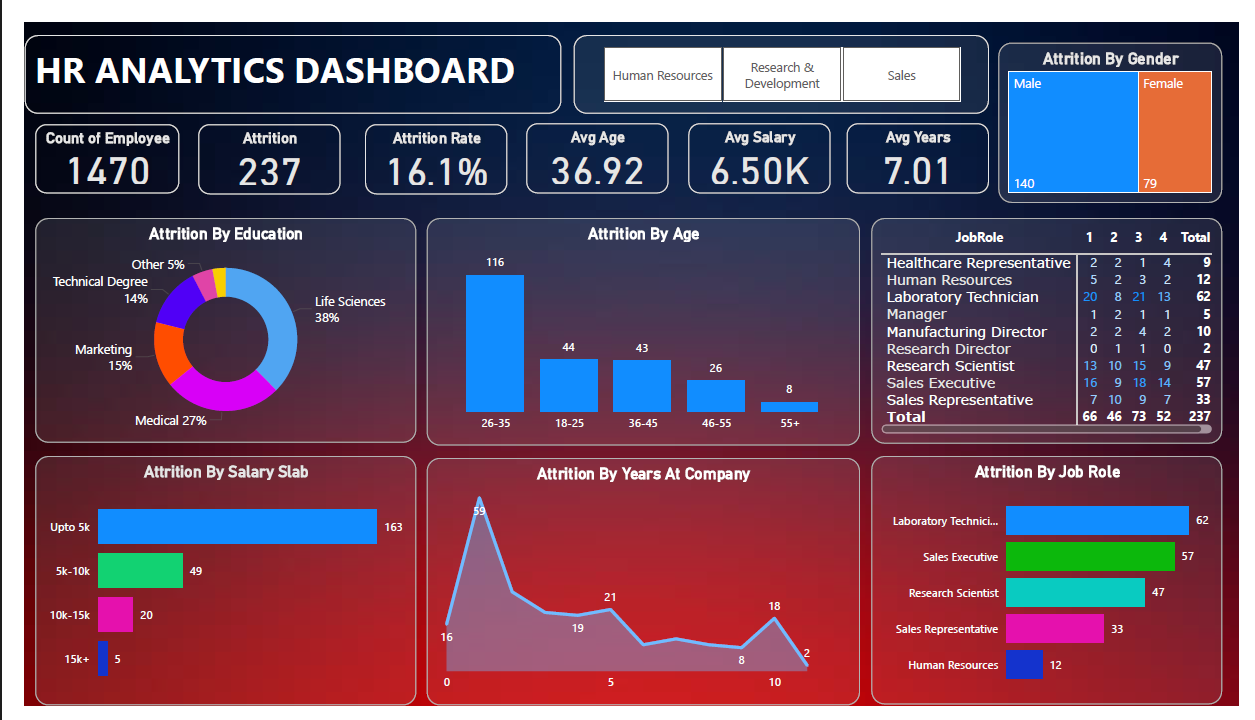

This screenshot's page, from the dashboard's own definition file:
{"tool":"powerbi","page":{"name":"Page 1","canvas":[1280,720],"ordinal":0},"visuals":[{"type":"card","title":"Count of Employee","fields":{"Values":["CountNonNull(HR_Analytics.EmpID)"]},"box":[11.8,107.8,150.6,82.7],"z":0},{"type":"card","title":"Attrition","fields":{"Values":["Sum(HR_Analytics.AttritionCount)"]},"box":[183.1,107.8,149.2,82.7],"z":1000},{"type":"card","title":"Attrition Rate","fields":{"Values":["HR_Analytics.AttritionRate"]},"box":[358.9,107.8,149.2,82.7],"z":2000},{"type":"card","title":"Avg Age","fields":{"Values":["Avg(HR_Analytics.Age)"]},"box":[528.7,106.3,149.2,84.2],"z":3000},{"type":"card","title":"Avg Salary","fields":{"Values":["Avg(HR_Analytics.MonthlyIncome)"]},"box":[700,106.3,150.6,84.2],"z":4000},{"type":"card","title":"Avg Years","fields":{"Values":["Avg(HR_Analytics.YearsAtCompany)"]},"box":[866.9,106.3,150.6,84.2],"z":5000},{"type":"donutChart","title":"Attrition By Education","fields":{"Category":["HR_Analytics.EducationField"],"Y":["Sum(HR_Analytics.AttritionCount)"]},"box":[11.4,205.7,401.4,237.1],"z":6000},{"type":"columnChart","title":"Attrition By Age","fields":{"Category":["HR_Analytics.AgeGroup"],"Y":["Sum(HR_Analytics.AttritionCount)"]},"box":[424.3,205.7,457.1,240],"z":7000},{"type":"pivotTable","fields":{"Rows":["HR_Analytics.JobRole"],"Columns":["HR_Analytics.JobSatisfaction"],"Values":["Sum(HR_Analytics.AttritionCount)"]},"box":[892.9,205.7,370,238.6],"z":8000},{"type":"barChart","title":"Attrition By Salary Slab","fields":{"Category":["HR_Analytics.SalarySlab"],"Y":["Sum(HR_Analytics.AttritionCount)"]},"box":[11.4,457.1,401.4,262.9],"z":9000},{"type":"barChart","title":"Attrition By Job Role","fields":{"Category":["HR_Analytics.JobRole"],"Y":["Sum(HR_Analytics.AttritionCount)"]},"box":[892.9,457.1,370,261.4],"z":10000},{"type":"areaChart","title":"Attrition By Years At Company","fields":{"Category":["HR_Analytics.YearsAtCompany"],"Y":["Sum(HR_Analytics.AttritionCount)"]},"box":[424.3,458.6,457.1,261.4],"z":11000},{"type":"treemap","title":"Attrition By Gender","fields":{"Group":["HR_Analytics.Gender"],"Values":["Sum(HR_Analytics.AttritionCount)"]},"box":[1027.1,21.4,235.7,168.6],"z":12000},{"type":"slicer","fields":{"Values":["HR_Analytics.Department"]},"box":[578.6,12.9,438.6,82.9],"z":13000},{"type":"textbox","box":[0,12.9,565.7,82.9],"z":14000}]}

Visuals, with their boxes in screenshot pixels (x1, y1, x2, y2), scaled from the page's 1280x720 canvas onto the 1255x720 screenshot:
"Count of Employee" card: <box>12,108,159,190</box>
"Attrition" card: <box>180,108,326,190</box>
"Attrition Rate" card: <box>352,108,498,190</box>
"Avg Age" card: <box>518,106,665,190</box>
"Avg Salary" card: <box>686,106,834,190</box>
"Avg Years" card: <box>850,106,998,190</box>
"Attrition By Education" donutChart: <box>11,206,405,443</box>
"Attrition By Age" columnChart: <box>416,206,864,446</box>
pivotTable - HR_Analytics.JobRole x HR_Analytics.JobSatisfaction: <box>875,206,1238,444</box>
"Attrition By Salary Slab" barChart: <box>11,457,405,719</box>
"Attrition By Job Role" barChart: <box>875,457,1238,718</box>
"Attrition By Years At Company" areaChart: <box>416,459,864,719</box>
"Attrition By Gender" treemap: <box>1007,21,1238,190</box>
slicer - HR_Analytics.Department: <box>567,13,997,96</box>
textbox: <box>0,13,555,96</box>
